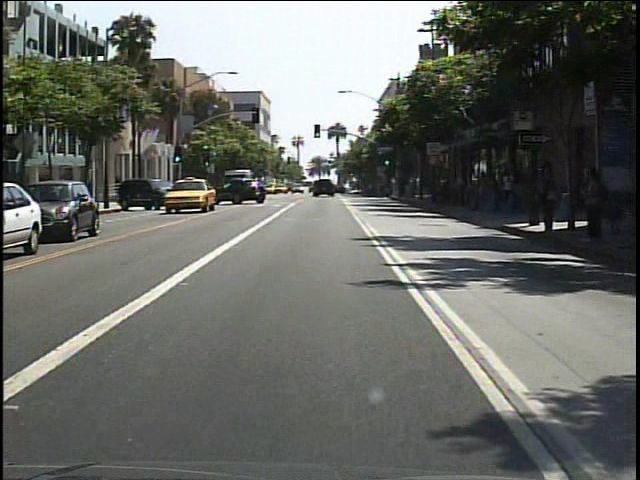person: (574, 166, 609, 245), (529, 159, 561, 238), (497, 167, 516, 211)
